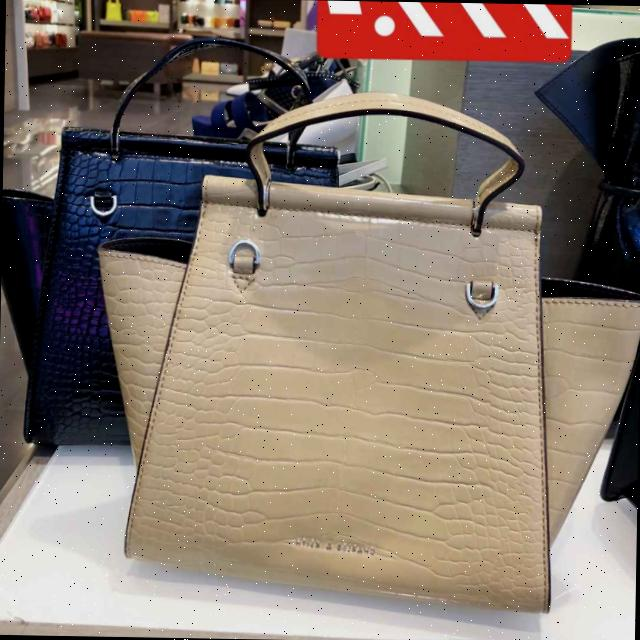handbag: (91, 123, 633, 604)
